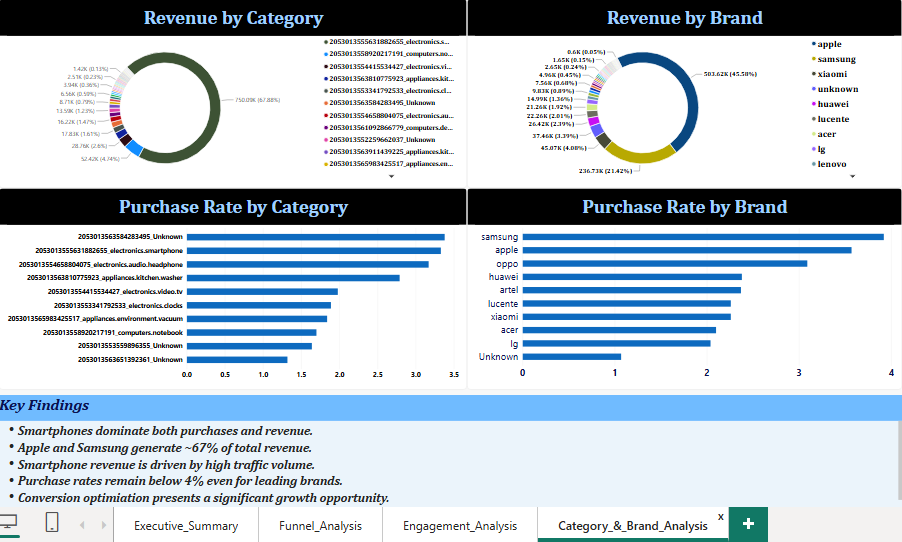

The dashboard page shown, as its layout file describes it:
{"tool":"powerbi","page":{"name":"Category_&_Brand_Analysis","canvas":[1920,1080],"ordinal":3},"visuals":[{"type":"donutChart","title":"Revenue by Category","fields":{"Category":["category_revenue_1.category"],"Y":["Sum(category_revenue_1.Revenue)"]},"box":[0,0,995,401.8],"z":0},{"type":"donutChart","title":"Revenue by Brand","fields":{"Category":["revenue_by_brand.brand"],"Y":["Sum(revenue_by_brand.brand_revenue)"]},"box":[995,0,924.8,401.8],"z":1000},{"type":"clusteredBarChart","title":"Purchase Rate by Category","fields":{"Category":["category_purchase_count_2.category"],"Y":["Sum(category_purchase_count_2.purchase_rate)"]},"box":[0,401.8,995,429.4],"z":2000},{"type":"clusteredBarChart","title":"Purchase Rate by Brand","fields":{"Category":["brand_purchase_count_2.brand"],"Y":["Sum(brand_purchase_count_2.purchase_rate)"]},"box":[995,401.8,924.8,429.4],"z":3000},{"type":"textbox","title":"Key Findings","box":[0,841.9,1919.8,238.1],"z":4000}]}

Visuals, with their boxes on the page's 1920x1080 design canvas (x1, y1, x2, y2). These are canvas units, not pixel positions in the 902x542 screenshot, which may show the page scaled, cropped or inside an application window:
"Revenue by Category" donutChart: 0/0/995/402
"Revenue by Brand" donutChart: 995/0/1920/402
"Purchase Rate by Category" clusteredBarChart: 0/402/995/831
"Purchase Rate by Brand" clusteredBarChart: 995/402/1920/831
"Key Findings" textbox: 0/842/1920/1080
